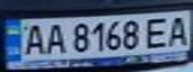1: (87, 20, 109, 52)
6: (103, 18, 124, 52)
8: (121, 17, 145, 51), (69, 20, 90, 53)
A: (18, 21, 48, 56), (163, 12, 193, 47), (42, 20, 69, 56)
E: (142, 15, 175, 49)
